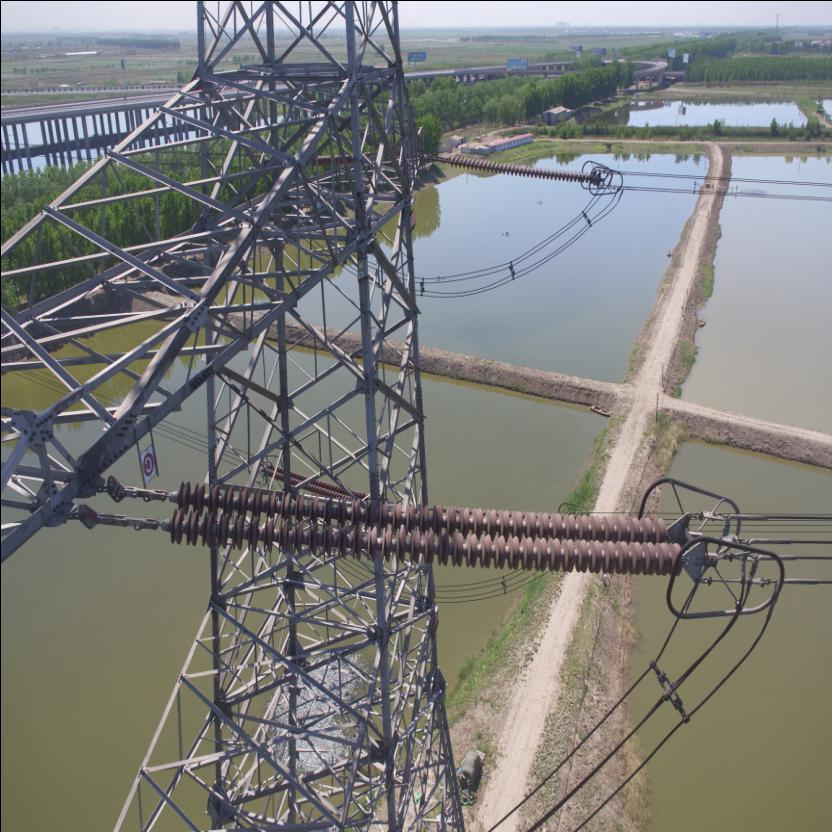insulator: (132, 474, 692, 579), (438, 148, 596, 184)
